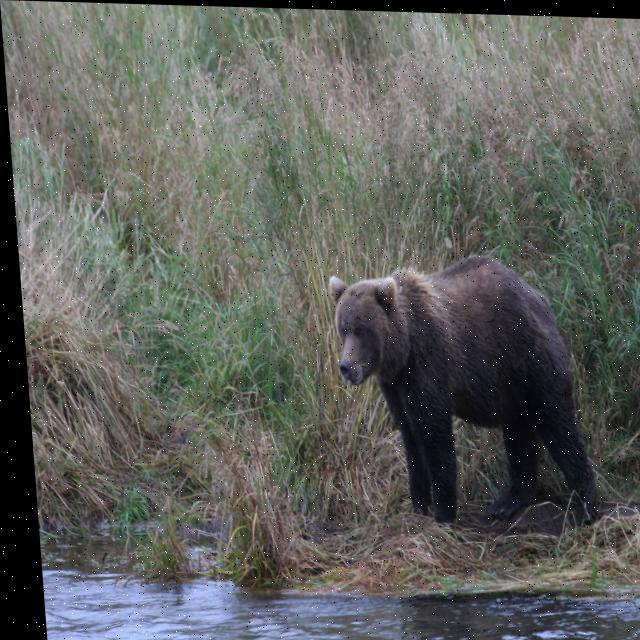bear face: (331, 251, 585, 505)
